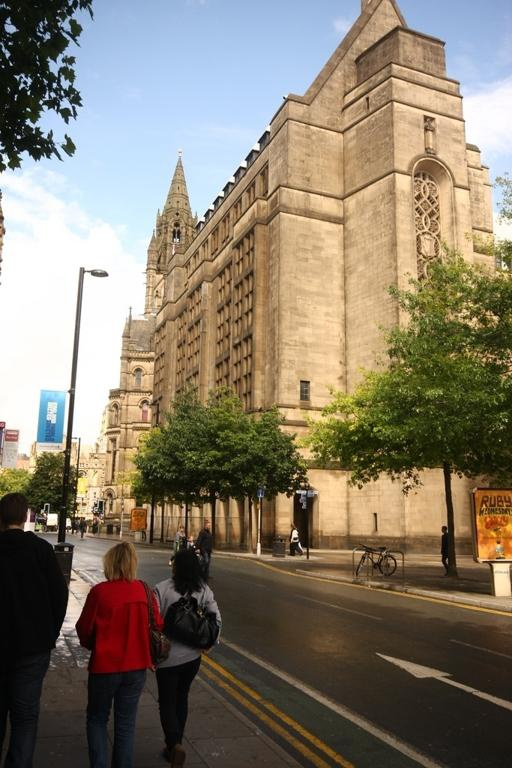non-vehicle: (355, 542, 396, 575), (132, 530, 146, 541)
